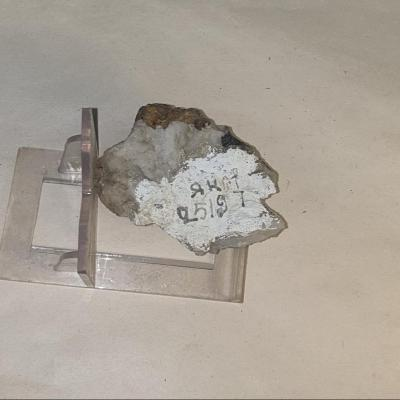mineralogy: (98, 103, 288, 256)
